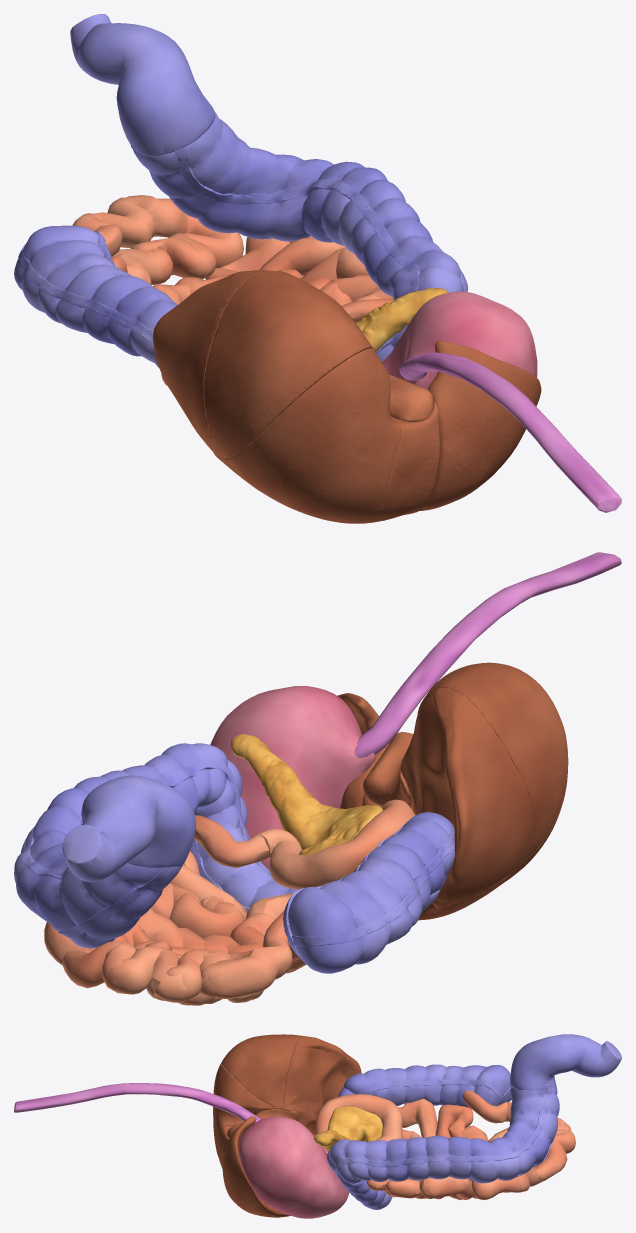
File: organ-material-trial.meshopt.glb
3 views of the same model, one above another, from view 1: azimuth 30°, elevation 25°; view 2: azimuth 150°, elevation 25°; view 3: azimuth 270°, elevation 25° (orthographic). The views are drawn at different scales.
Visible parts, largest first — view 1: liver, large-intestine, small-intestine, stomach, esophagus, pancreas; view 2: large-intestine, liver, small-intestine, stomach, esophagus, pancreas; view 3: large-intestine, liver, small-intestine, stomach, esophagus, pancreas.
Part boxes in pixels (x1=…): liver: x1=153, y1=270, x2=541, y2=523; large-intestine: x1=14, y1=14, x2=467, y2=367; small-intestine: x1=72, y1=195, x2=393, y2=385; stomach: x1=382, y1=291, x2=537, y2=389; esophagus: x1=399, y1=352, x2=621, y2=512; pancreas: x1=356, y1=288, x2=448, y2=351; large-intestine: x1=14, y1=743, x2=454, y2=973; liver: x1=337, y1=662, x2=568, y2=920; small-intestine: x1=44, y1=799, x2=415, y2=1005; stomach: x1=210, y1=686, x2=375, y2=870; esophagus: x1=354, y1=552, x2=621, y2=757; pancreas: x1=231, y1=734, x2=383, y2=855; large-intestine: x1=326, y1=1034, x2=621, y2=1209; liver: x1=213, y1=1034, x2=361, y2=1217; small-intestine: x1=315, y1=1090, x2=575, y2=1199; stomach: x1=238, y1=1116, x2=349, y2=1218; esophagus: x1=14, y1=1083, x2=261, y2=1122; pancreas: x1=314, y1=1106, x2=382, y2=1151.
Size of the model in its own units: 244 by 191 by 633.
Materials: 6 (3 with a texture image).
